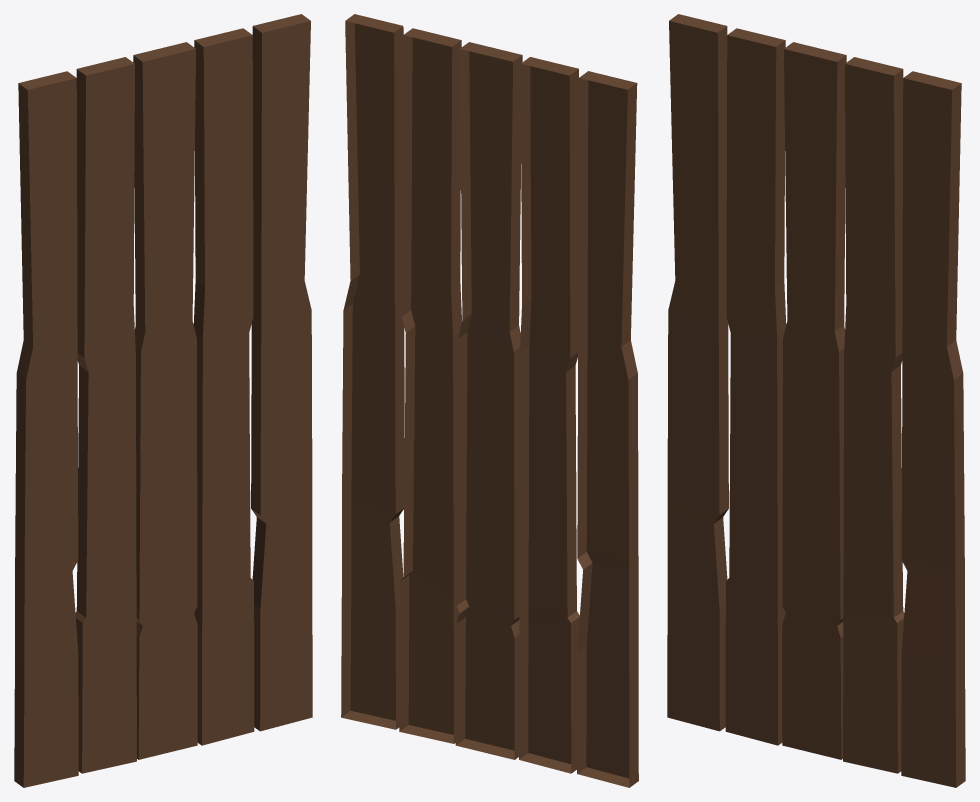
Rendered from Door2.glb.
3 views of the same model, side by side, from view 1: azimuth 30°, elevation 25°; view 2: azimuth 150°, elevation 25°; view 3: azimuth 330°, elevation 25° (orthographic).
Parts seen in each view (by area): view 1: Door2; view 2: Door2; view 3: Door2.
Part boxes in pixels (left/top/right/bottom): Door2: left=14, top=14, right=312, bottom=787; Door2: left=341, top=14, right=638, bottom=787; Door2: left=667, top=14, right=965, bottom=787.
Bounding box in the file's own units: 0.3977 × 0.9182 × 0.0254.
1 material, 1 textured.
